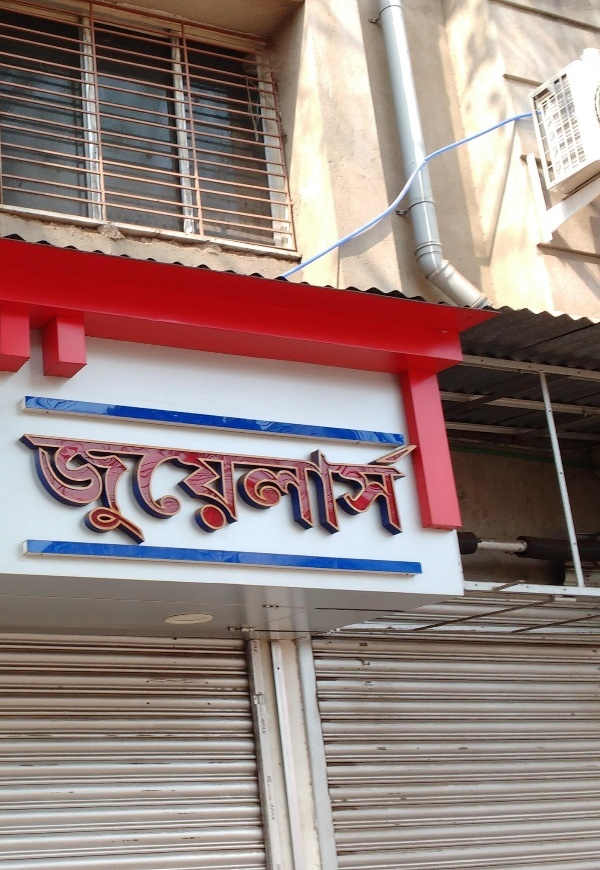text: (33, 430, 48, 555), (49, 430, 64, 555), (65, 430, 80, 555), (81, 430, 96, 555), (97, 430, 112, 555), (113, 430, 128, 555), (129, 430, 144, 555), (145, 430, 160, 555), (161, 430, 176, 555), (177, 430, 192, 555), (193, 430, 208, 555), (209, 430, 224, 555), (225, 430, 240, 555), (241, 430, 256, 555), (257, 430, 272, 555), (273, 430, 288, 555), (289, 430, 304, 555), (305, 430, 320, 555), (321, 430, 336, 555), (337, 430, 352, 555), (353, 430, 368, 555), (369, 430, 384, 555), (385, 430, 400, 555), (401, 430, 416, 555), (417, 430, 432, 555), (18, 430, 32, 555), (433, 430, 434, 555)
